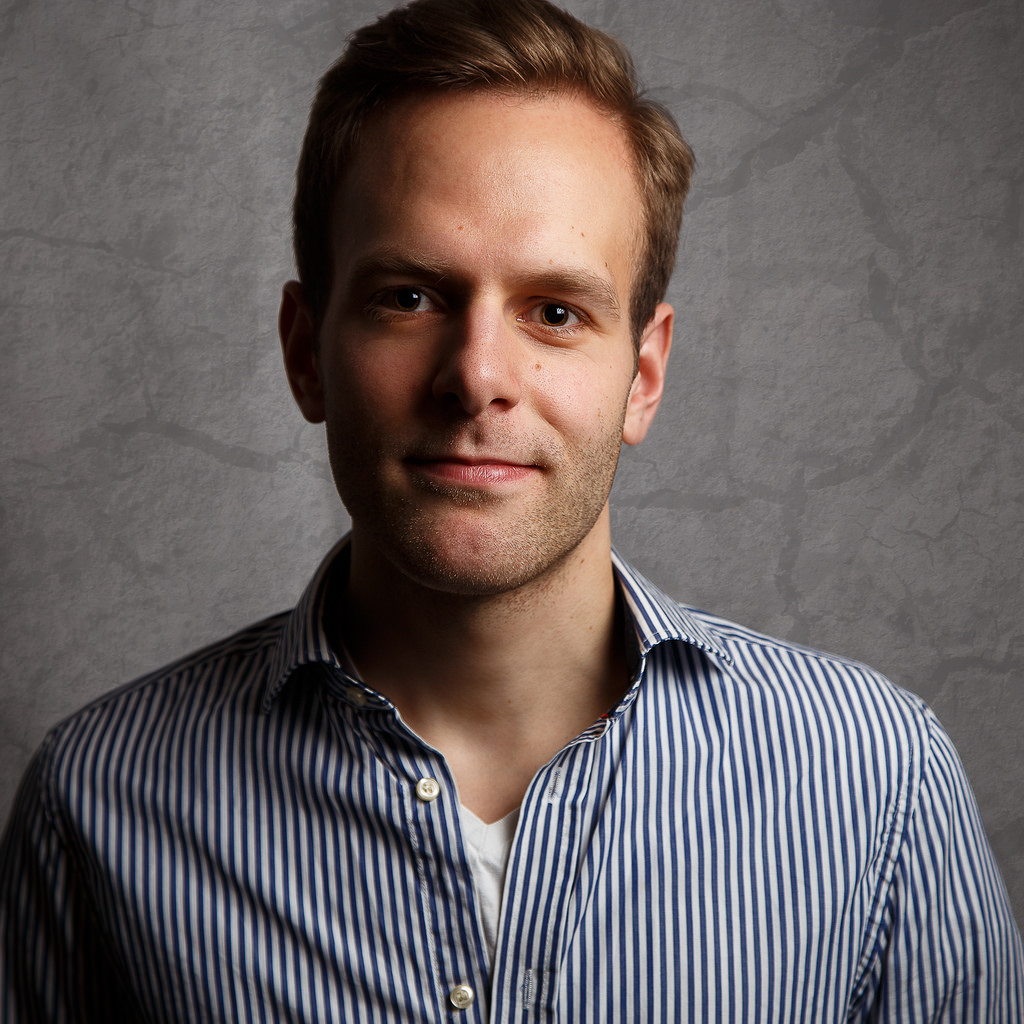bare: (318, 341, 620, 584)
